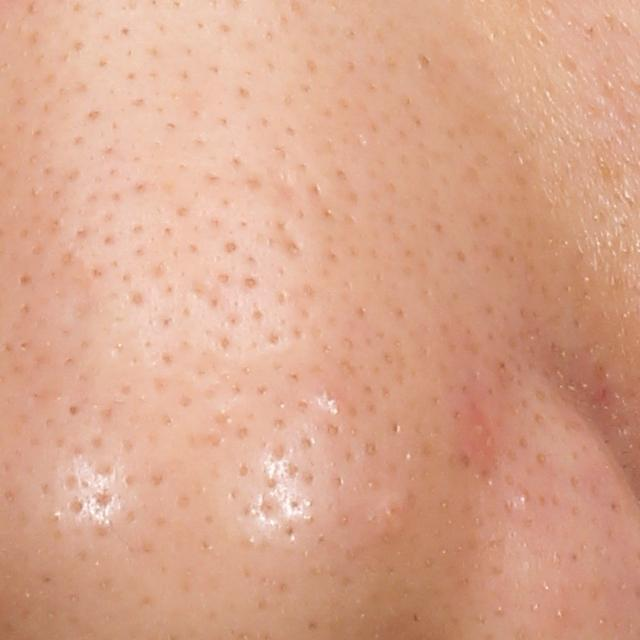atrophic_scar: (274, 215, 302, 258)
comedo: (240, 273, 260, 291)
